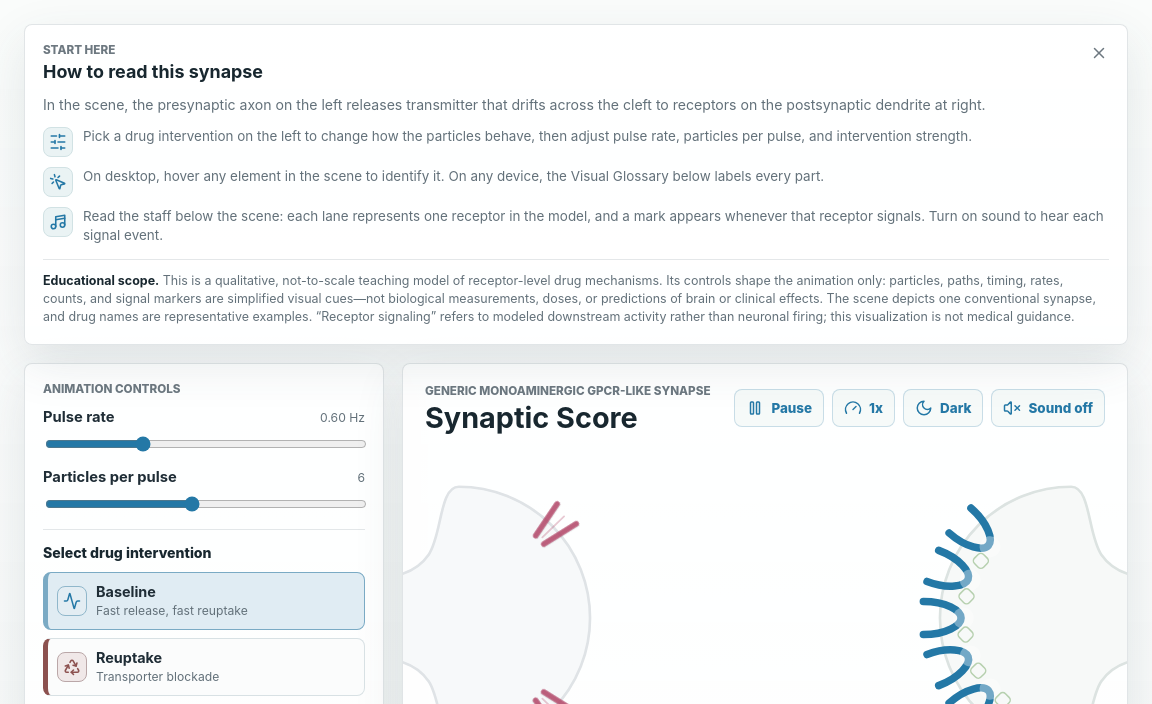
App › toggles simulation pause and half-speed playback controls
The width and height of the screenshot is (1152, 704).
Click the button with aria-label "pause simulation" at (779, 408), box [734,389,824,427]
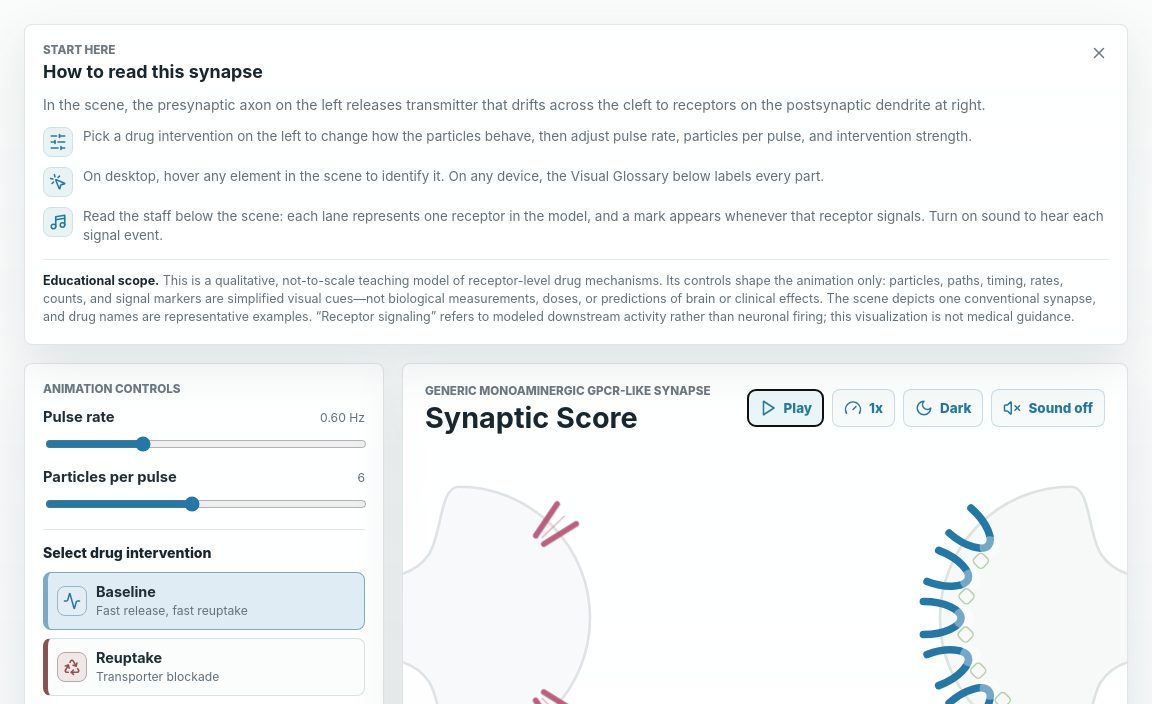
expect the button with aria-label "play simulation" is pressed: met
Click the button with aria-label "play simulation" at (785, 408), box [747,389,824,427]
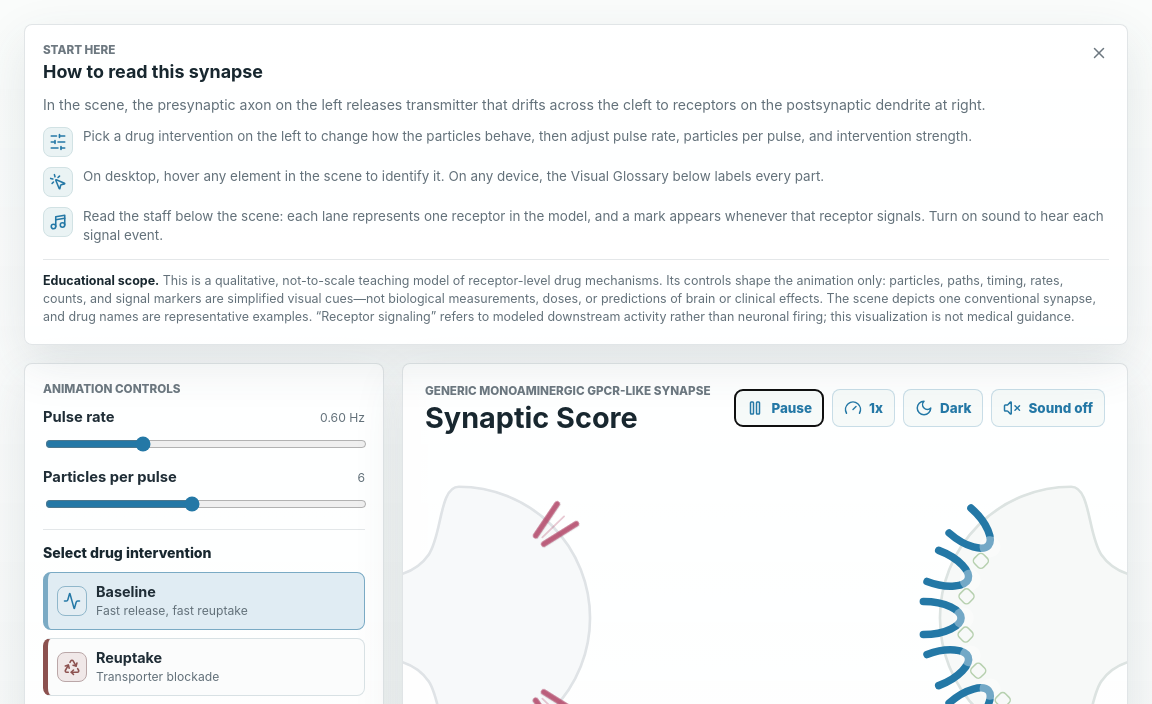
expect the button with aria-label "pause simulation" is not pressed: met, box [734,389,824,427]
Click the button named "switch to half speed" at (864, 408), box [832,389,895,427]
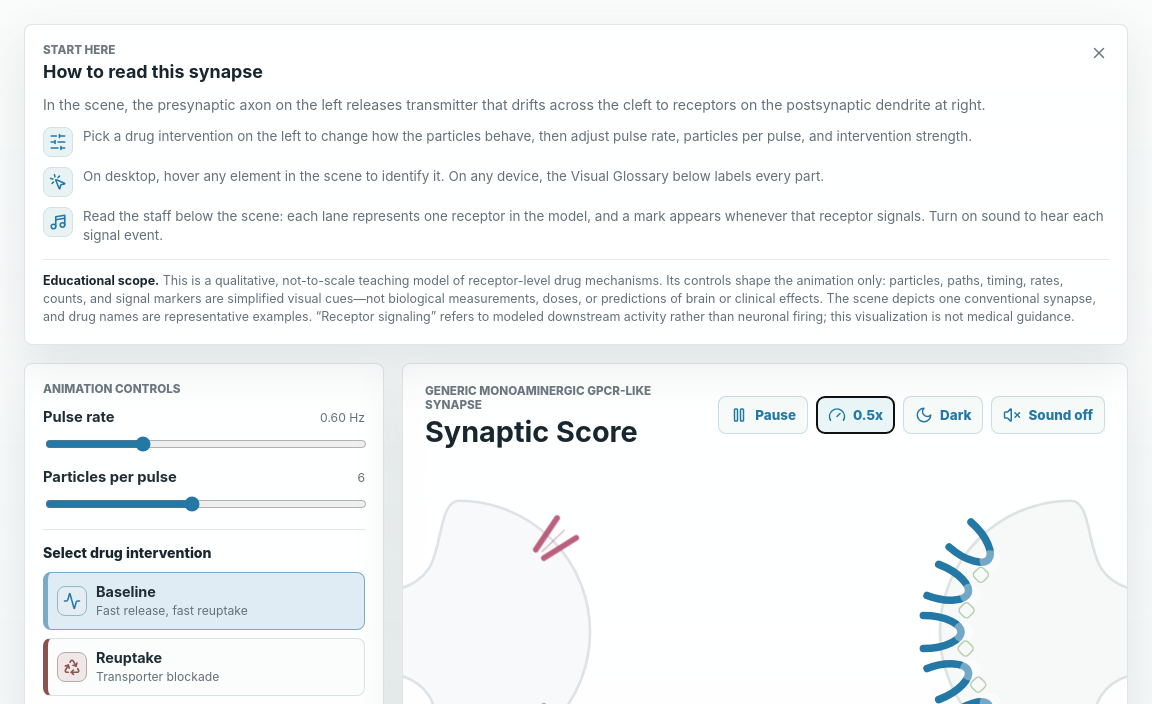
expect the button named "switch to regular speed" reads "0.5x": met
Click the button named "switch to regular speed" at (856, 415), box [816,396,895,434]
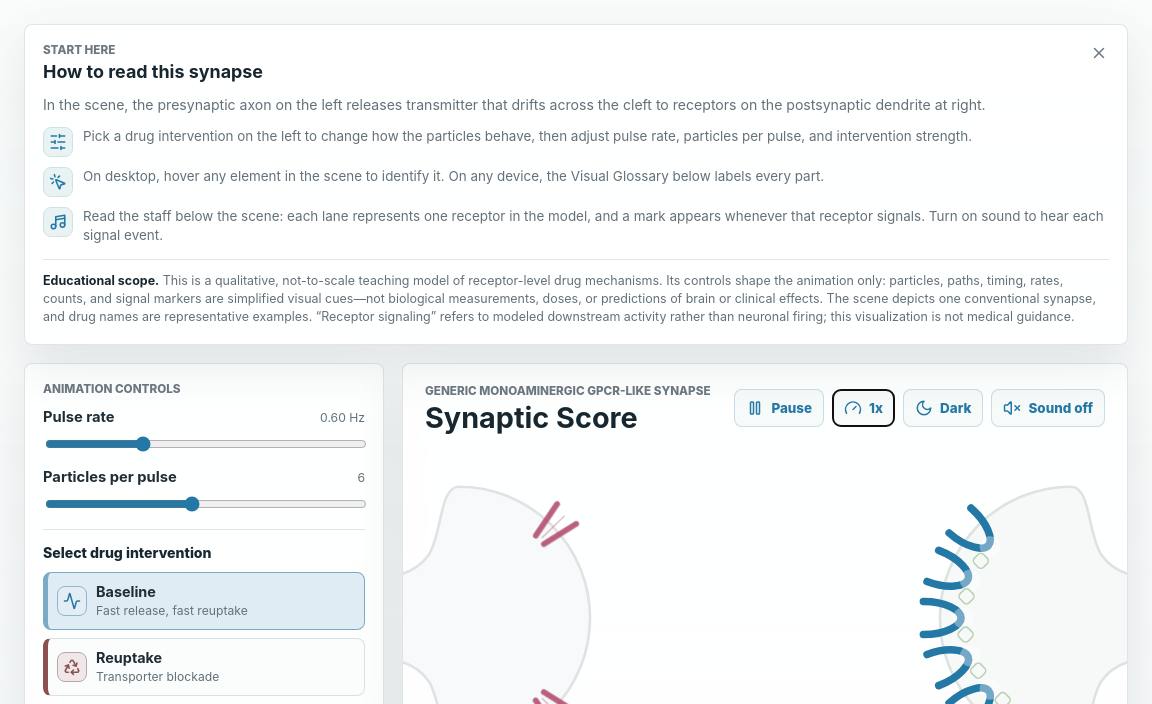
expect the button named "switch to half speed" reads "1x": met, box [832,389,895,427]
